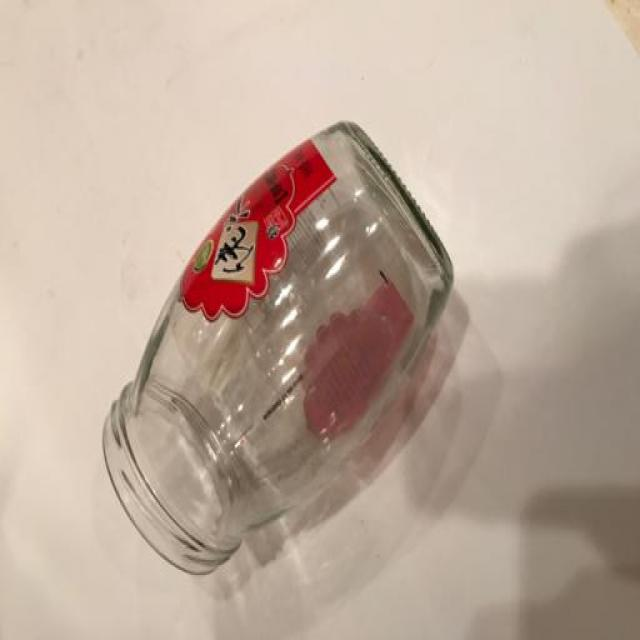glass: (68, 100, 516, 603)
